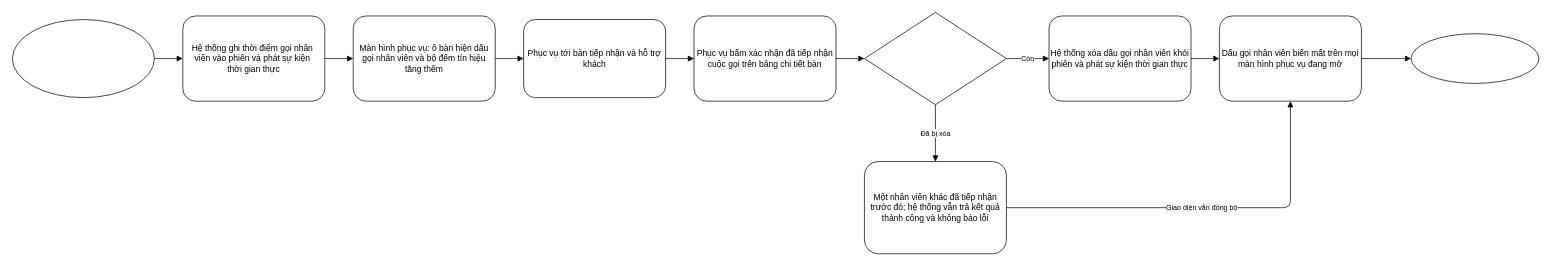
This 1551x266 diagram has some shape labels left out. The centre of each missing label's shape, as x and y in pixels:
"Dấu gọi nhân viên còn trên phiên?" belongs at (935,58).
"Khách bấm nút gọi nhân viên trên giao diện gọi món" belongs at (83,58).
"Kết thúc" belongs at (1474,58).
